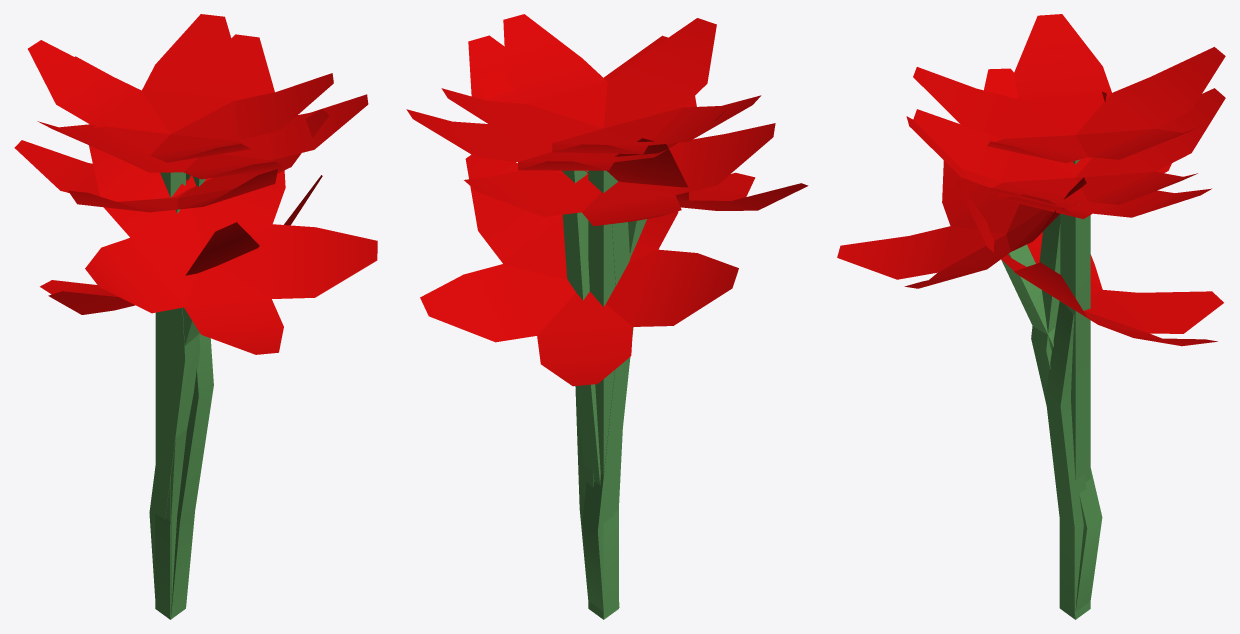
Rendered from Flowers.fbx.
The picture shows the model from 3 angles, left to right: view 1: azimuth 30°, elevation 25°; view 2: azimuth 150°, elevation 25°; view 3: azimuth 270°, elevation 25°; orthographic projection.
Visible parts, largest first — view 1: Flower, Flower4, Flower2, Flower1, Flower3; view 2: Flower3, Flower4, Flower2, Flower1, Flower; view 3: Flower4, Flower1, Flower3, Flower, Flower2.
Boxes of the visible parts, x1=… form: Flower: x1=85, y1=121, x2=377, y2=613; Flower4: x1=28, y1=14, x2=333, y2=613; Flower2: x1=14, y1=109, x2=329, y2=617; Flower1: x1=72, y1=34, x2=368, y2=619; Flower3: x1=40, y1=175, x2=322, y2=619; Flower3: x1=420, y1=154, x2=738, y2=618; Flower4: x1=441, y1=14, x2=761, y2=618; Flower2: x1=464, y1=71, x2=775, y2=611; Flower1: x1=406, y1=35, x2=725, y2=619; Flower: x1=585, y1=138, x2=808, y2=502; Flower4: x1=913, y1=14, x2=1225, y2=618; Flower1: x1=913, y1=53, x2=1225, y2=619; Flower3: x1=956, y1=178, x2=1223, y2=618; Flower: x1=837, y1=91, x2=1106, y2=615; Flower2: x1=906, y1=68, x2=1211, y2=617.
Size of the model in its own units: 2 by 3.31 by 2.2.
